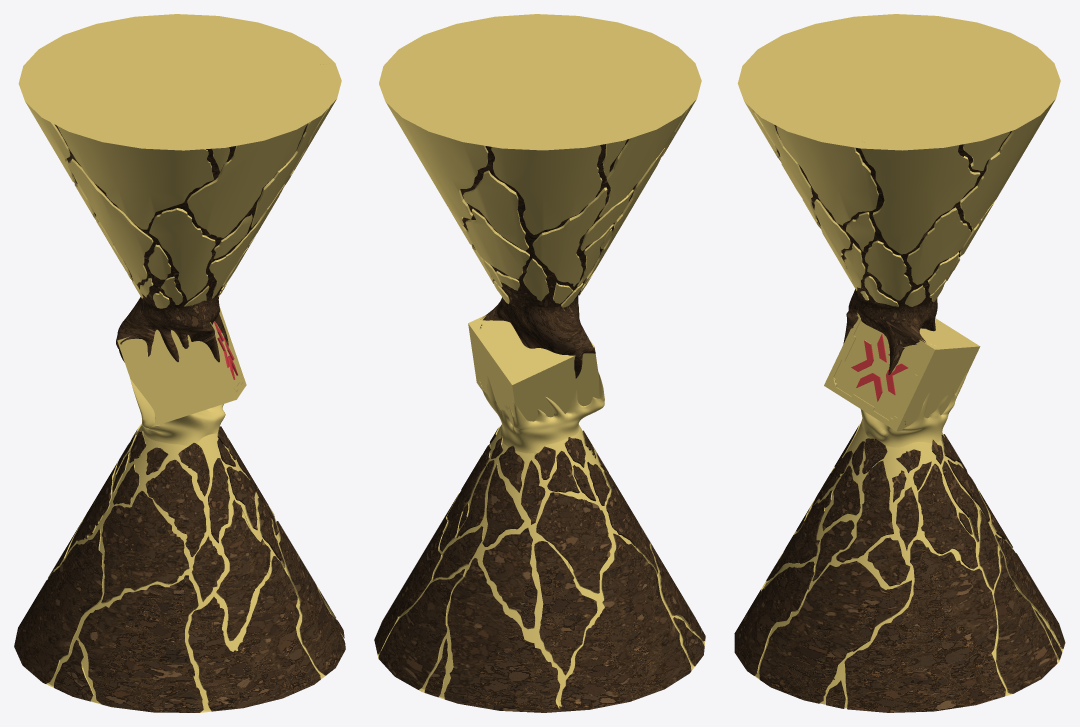
File: trofeu_3d.glb
The picture shows the model from 3 angles, left to right: view 1: azimuth 30°, elevation 25°; view 2: azimuth 150°, elevation 25°; view 3: azimuth 270°, elevation 25°; orthographic projection.
Visible parts, largest first — view 1: Cavidade_de_Ouro_Superior001__0_n3d_0, Cavidade_de_Ouro_Superior001__0_n3d_3, Cavidade_de_Ouro_Superior001__0_n3d_4, Cavidade_de_Ouro_Superior001__0_n3d_1, Cavidade_de_Ouro_Superior001__0_n3d_2; view 2: Cavidade_de_Ouro_Superior001__0_n3d_0, Cavidade_de_Ouro_Superior001__0_n3d_3, Cavidade_de_Ouro_Superior001__0_n3d_4, Cavidade_de_Ouro_Superior001__0_n3d_1, Cavidade_de_Ouro_Superior001__0_n3d_2; view 3: Cavidade_de_Ouro_Superior001__0_n3d_0, Cavidade_de_Ouro_Superior001__0_n3d_3, Cavidade_de_Ouro_Superior001__0_n3d_4, Cavidade_de_Ouro_Superior001__0_n3d_7, Cavidade_de_Ouro_Superior001__0_n3d_1, Cavidade_de_Ouro_Superior001__0_n3d_2, Cavidade_de_Ouro_Superior001__0_n3d_9.
Part boxes in pixels (left/top/right/bottom): Cavidade_de_Ouro_Superior001__0_n3d_0: left=18, top=14, right=341, bottom=712; Cavidade_de_Ouro_Superior001__0_n3d_3: left=14, top=426, right=345, bottom=712; Cavidade_de_Ouro_Superior001__0_n3d_4: left=48, top=426, right=343, bottom=710; Cavidade_de_Ouro_Superior001__0_n3d_1: left=54, top=124, right=307, bottom=640; Cavidade_de_Ouro_Superior001__0_n3d_2: left=116, top=293, right=228, bottom=362; Cavidade_de_Ouro_Superior001__0_n3d_0: left=377, top=14, right=705, bottom=708; Cavidade_de_Ouro_Superior001__0_n3d_3: left=374, top=429, right=705, bottom=712; Cavidade_de_Ouro_Superior001__0_n3d_4: left=398, top=425, right=703, bottom=706; Cavidade_de_Ouro_Superior001__0_n3d_1: left=460, top=139, right=637, bottom=361; Cavidade_de_Ouro_Superior001__0_n3d_2: left=495, top=296, right=594, bottom=378; Cavidade_de_Ouro_Superior001__0_n3d_0: left=737, top=14, right=1063, bottom=698; Cavidade_de_Ouro_Superior001__0_n3d_3: left=734, top=426, right=1065, bottom=712; Cavidade_de_Ouro_Superior001__0_n3d_4: left=755, top=426, right=1061, bottom=708; Cavidade_de_Ouro_Superior001__0_n3d_7: left=834, top=320, right=925, bottom=419; Cavidade_de_Ouro_Superior001__0_n3d_1: left=774, top=125, right=1011, bottom=492; Cavidade_de_Ouro_Superior001__0_n3d_2: left=849, top=289, right=937, bottom=374; Cavidade_de_Ouro_Superior001__0_n3d_9: left=851, top=334, right=908, bottom=401.
Bounding box in the file's own units: 0.0597 × 0.1114 × 0.0596.
10 materials, 6 textured.
